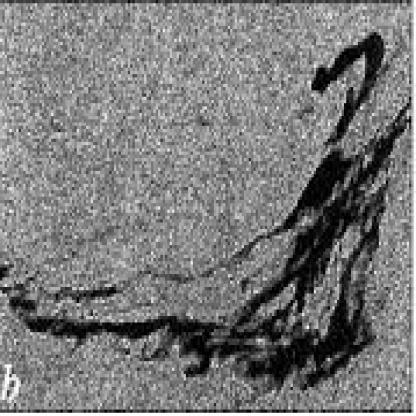oil: (7, 26, 407, 390)
